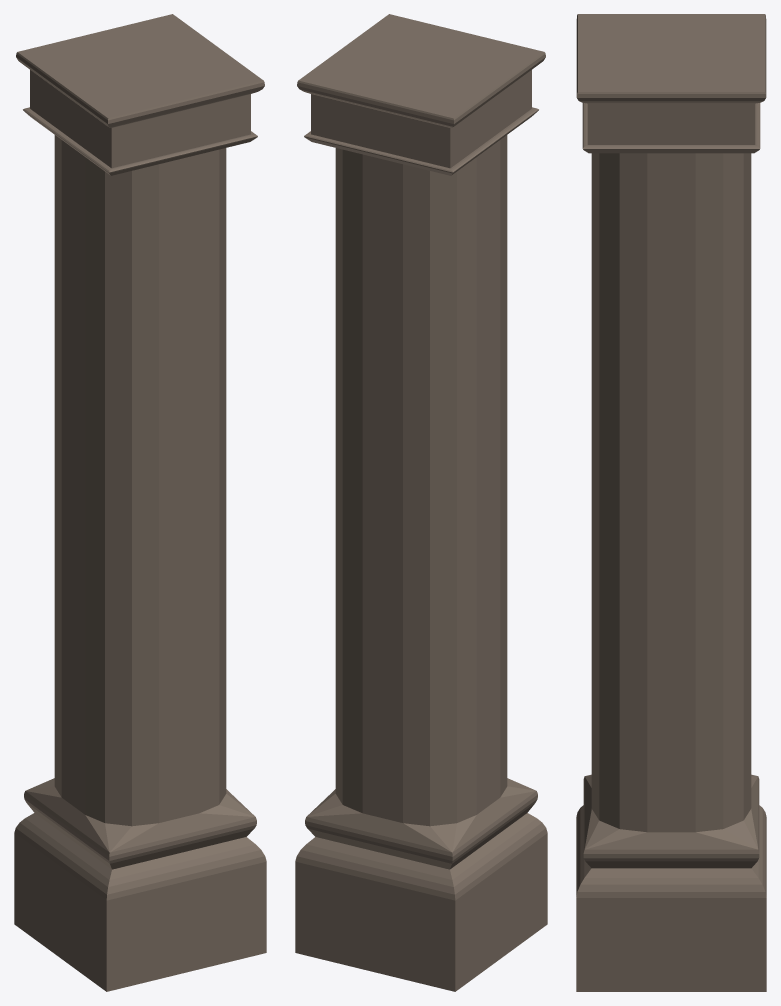
File: Pillar_Textured.fbx
The picture shows the model from 3 angles, left to right: view 1: azimuth 30°, elevation 25°; view 2: azimuth 150°, elevation 25°; view 3: azimuth 270°, elevation 25°; orthographic projection. The views are drawn at different scales.
Visible parts, largest first — view 1: Pillar; view 2: Pillar; view 3: Pillar.
Boxes of the visible parts, x1,y1,x2,y2 form: Pillar: (14, 14, 266, 991); Pillar: (295, 14, 547, 991); Pillar: (576, 14, 766, 991).
Bounding box in the file's own units: 88.52 × 461 × 88.52.
